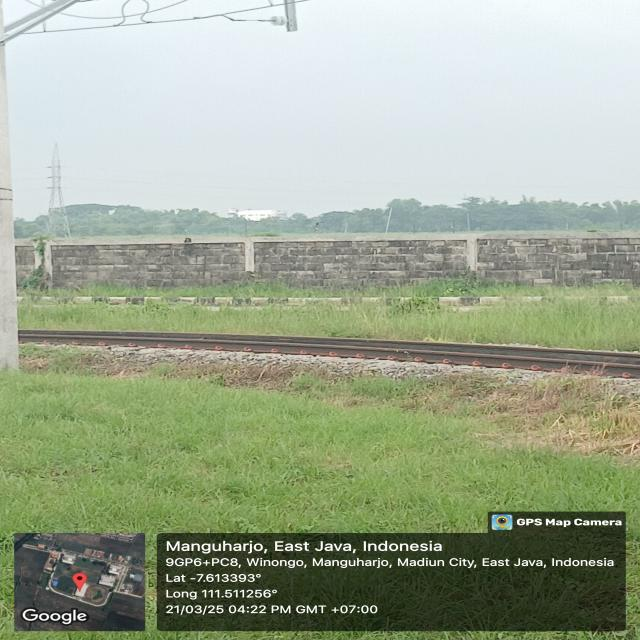rail-detection: (19, 329, 640, 379)
